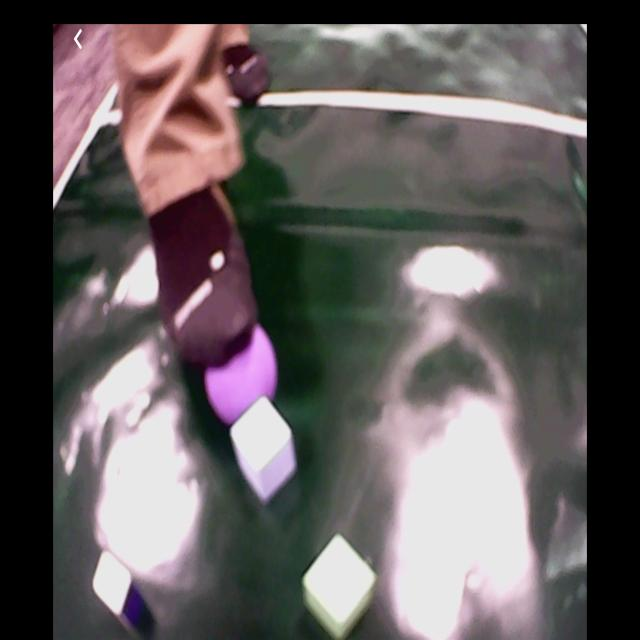ball: (206, 328, 276, 421)
